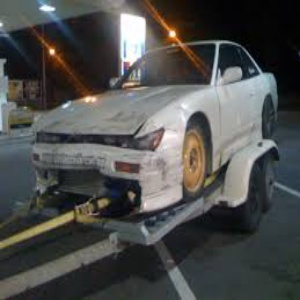bonnet: (38, 99, 151, 137)
bumper_scratch: (140, 155, 184, 211)
